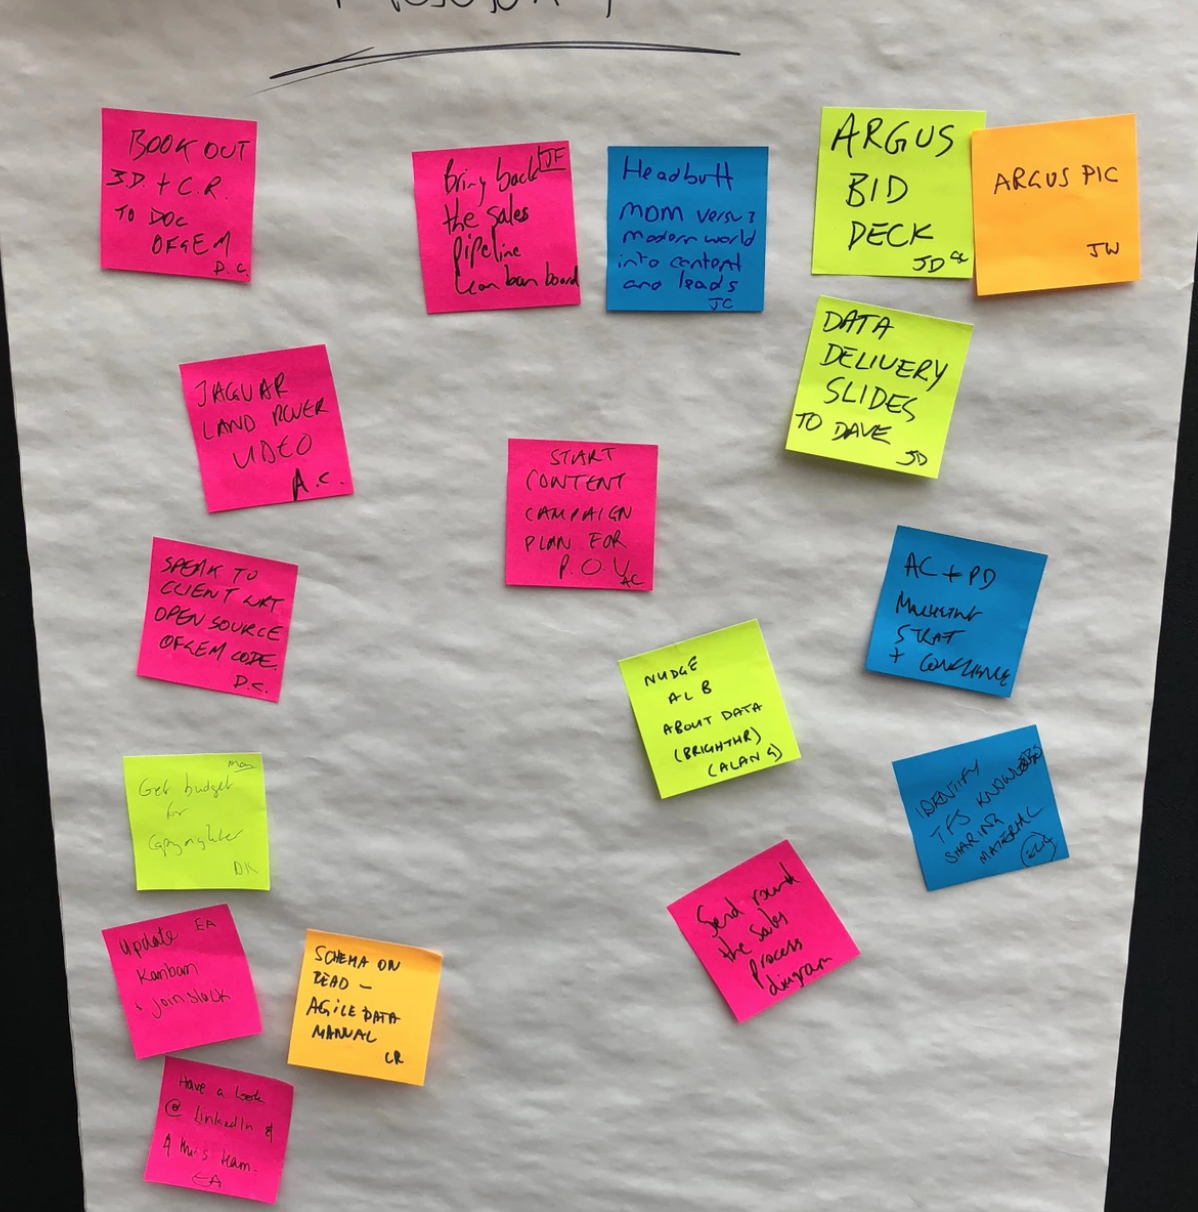stickynote: (607, 606, 814, 794), (662, 828, 864, 1019), (85, 97, 278, 292), (858, 512, 1041, 714), (966, 112, 1165, 297), (807, 97, 997, 287), (790, 294, 966, 495), (883, 722, 1072, 906), (409, 133, 593, 319), (124, 519, 306, 706), (602, 132, 778, 322), (172, 342, 369, 508), (493, 422, 665, 604), (88, 898, 272, 1063), (288, 922, 452, 1097), (114, 735, 285, 899), (144, 1047, 300, 1212)
